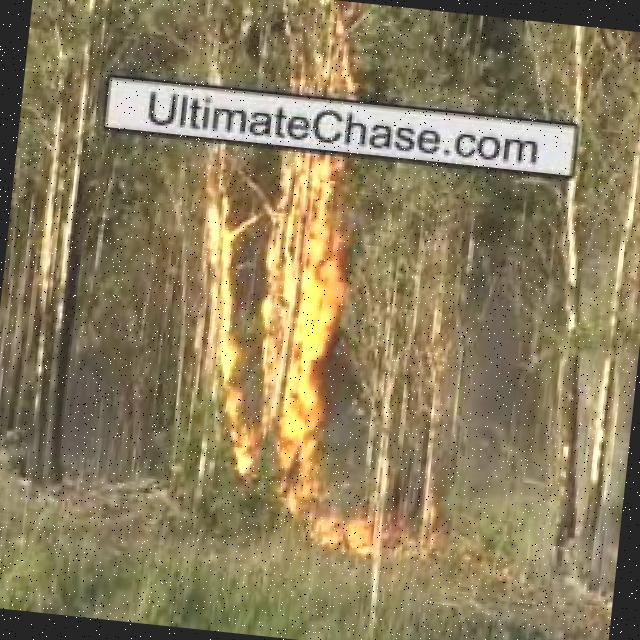Fire: (179, 149, 368, 502), (296, 0, 378, 98), (287, 515, 383, 563)
